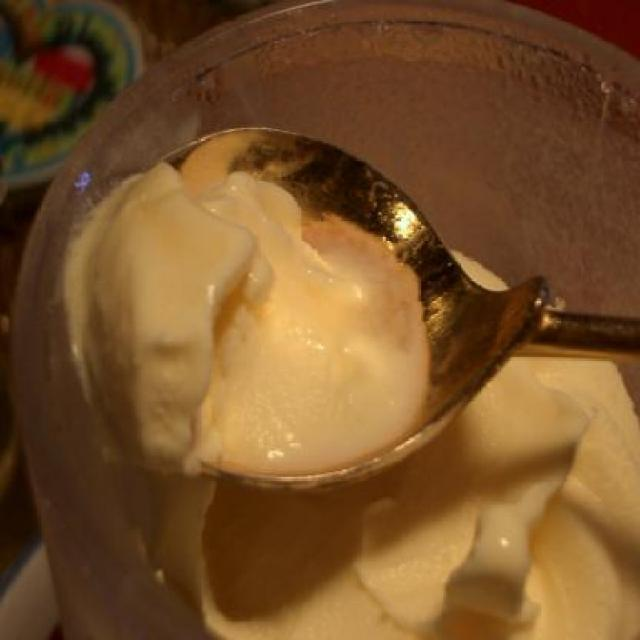Ice cream: (160, 240, 640, 640), (62, 155, 422, 478)
